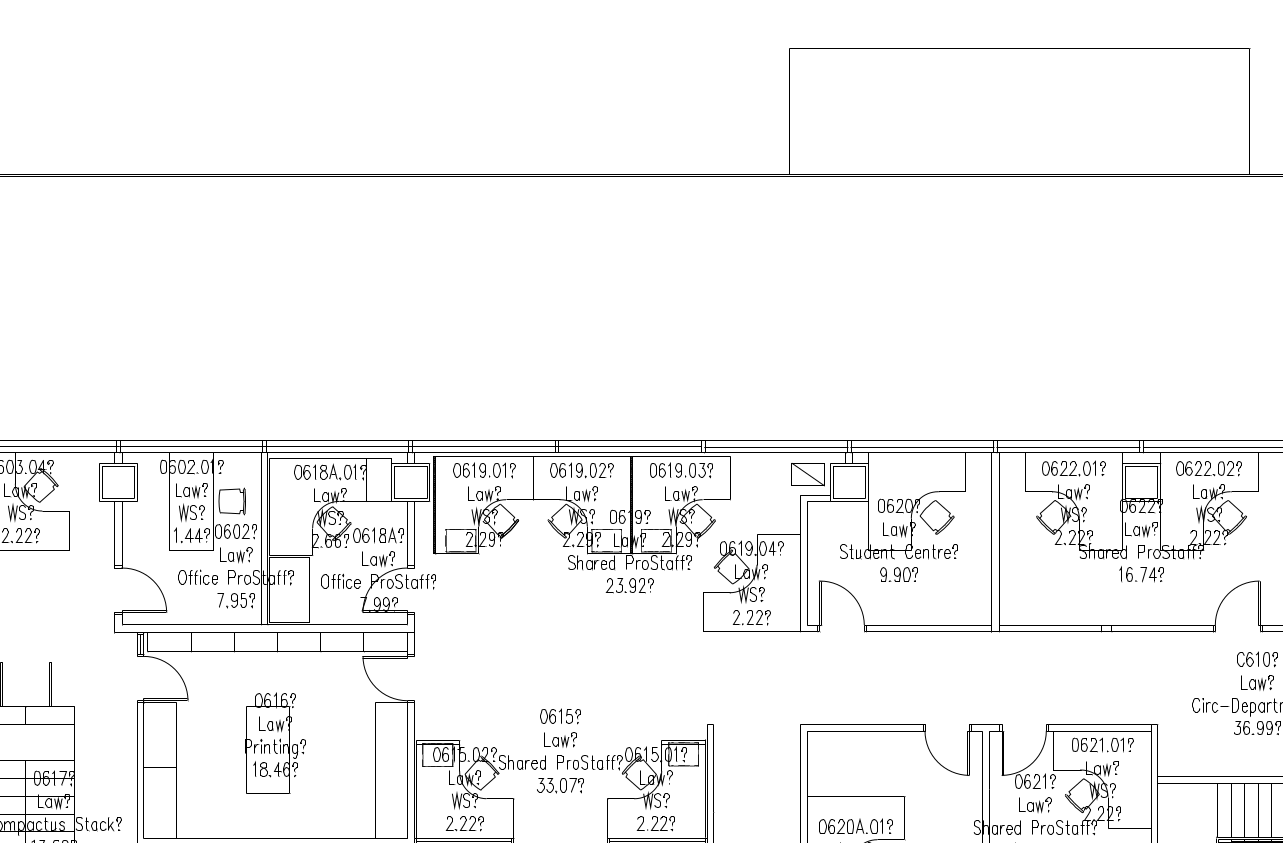door: (813, 573, 871, 638), (919, 719, 977, 784), (1209, 572, 1267, 637), (996, 717, 1051, 778), (113, 566, 173, 617), (134, 652, 194, 703), (351, 653, 410, 703), (349, 566, 408, 616)
